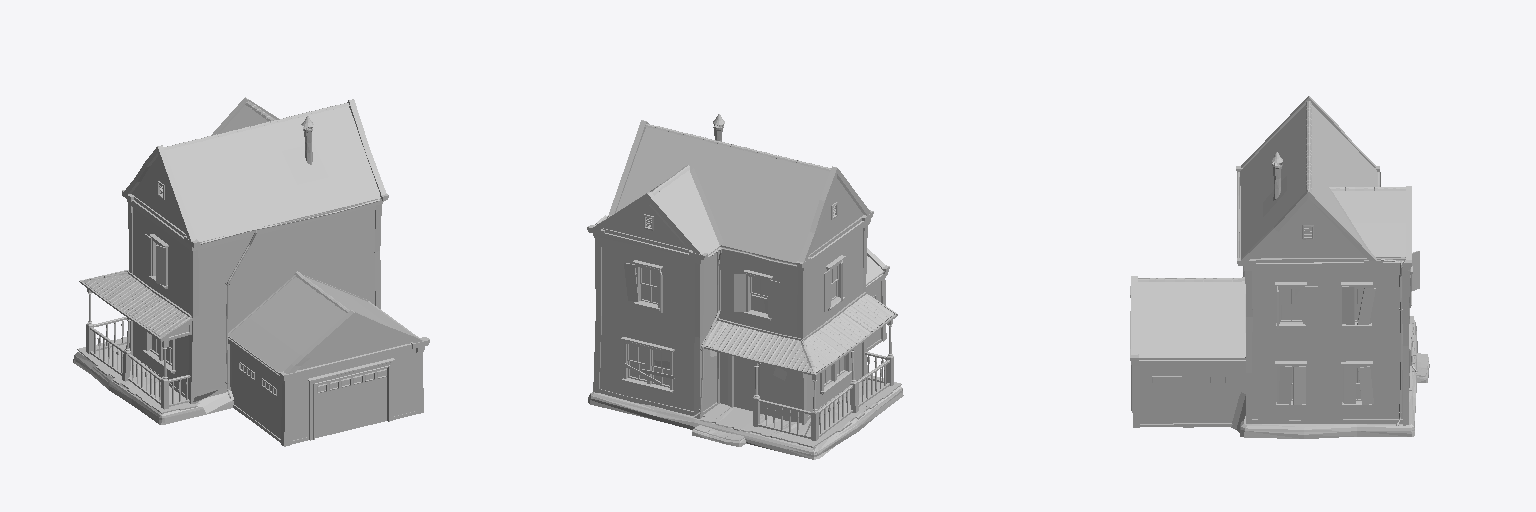
Rendered from HouseSuburban.obj.
The picture shows the model from 3 angles: view 1: azimuth 30°, elevation 25°; view 2: azimuth 150°, elevation 25°; view 3: azimuth 270°, elevation 25°; orthographic projection.
Parts seen in each view (by area): view 1: Wall, Roof, Garagewalls_Cube.003, GarageRoof_Cube.006, Low_Gate_Plane.006, TerraceRoof, Basement, Сarcass.002_Сarcass.028, Floor.001_Cube.113, Low_GateFrame_Cube.190, Сarcass.010_Сarcass.013, Сarcass.017_Сarcass.031 (+9 smaller); view 2: Wall, Roof, TerraceRoof, Basement, Floor.001_Cube.113, FrontRoof, Сarcass.002_Сarcass.028, Сarcass.007_Сarcass.018, Сarcass.001_Сarcass.034, Сarcass.003_Сarcass, Door, Сarcass_Сarcass.033 (+6 smaller); view 3: Wall, Roof, GarageRoof_Cube.006, Garagewalls_Cube.003, FrontRoof, Basement, Сarcass.002_Сarcass.028, Сarcass.011_Сarcass.027, Сarcass.016_Сarcass.030, Сarcass_Сarcass.033, Сarcass.020_Сarcass.036, Сarcass.001_Сarcass.034 (+4 smaller).
Part boxes in pixels (left/top/right/bottom): Wall: left=131, top=156, right=375, bottom=394; Roof: left=165, top=106, right=380, bottom=242; Garagewalls_Cube.003: left=232, top=320, right=416, bottom=440; GarageRoof_Cube.006: left=228, top=276, right=413, bottom=371; Low_Gate_Plane.006: left=315, top=368, right=386, bottom=437; TerraceRoof: left=83, top=271, right=192, bottom=336; Basement: left=73, top=352, right=233, bottom=424; Сarcass.002_Сarcass.028: left=127, top=194, right=383, bottom=250; Floor.001_Cube.113: left=77, top=337, right=197, bottom=413; Low_GateFrame_Cube.190: left=308, top=358, right=394, bottom=440; Сarcass.010_Сarcass.013: left=188, top=250, right=198, bottom=403; Сarcass.017_Сarcass.031: left=284, top=310, right=422, bottom=373; Wall: left=600, top=177, right=863, bottom=421; Roof: left=616, top=127, right=829, bottom=263; TerraceRoof: left=702, top=294, right=894, bottom=372; Basement: left=588, top=386, right=903, bottom=459; Floor.001_Cube.113: left=700, top=376, right=901, bottom=447; FrontRoof: left=635, top=170, right=719, bottom=254; Сarcass.002_Сarcass.028: left=593, top=215, right=870, bottom=270; Сarcass.007_Сarcass.018: left=694, top=262, right=703, bottom=418; Сarcass.001_Сarcass.034: left=799, top=166, right=870, bottom=262; Сarcass.003_Сarcass: left=593, top=192, right=704, bottom=254; Door: left=734, top=357, right=754, bottom=410; Сarcass_Сarcass.033: left=593, top=238, right=601, bottom=392; Wall: left=1251, top=198, right=1405, bottom=419; Roof: left=1240, top=105, right=1376, bottom=257; GarageRoof_Cube.006: left=1138, top=281, right=1245, bottom=357; Garagewalls_Cube.003: left=1140, top=366, right=1245, bottom=423; FrontRoof: left=1332, top=191, right=1405, bottom=257; Basement: left=1240, top=320, right=1417, bottom=438; Сarcass.002_Сarcass.028: left=1238, top=172, right=1410, bottom=270; Сarcass.011_Сarcass.027: left=1241, top=189, right=1376, bottom=260; Сarcass.016_Сarcass.030: left=1245, top=271, right=1252, bottom=423; Сarcass_Сarcass.033: left=1403, top=271, right=1408, bottom=425; Сarcass.020_Сarcass.036: left=1131, top=358, right=1245, bottom=365; Сarcass.001_Сarcass.034: left=1241, top=96, right=1376, bottom=167.
Bounding box in the file's own units: 1596 × 1652 × 1739.